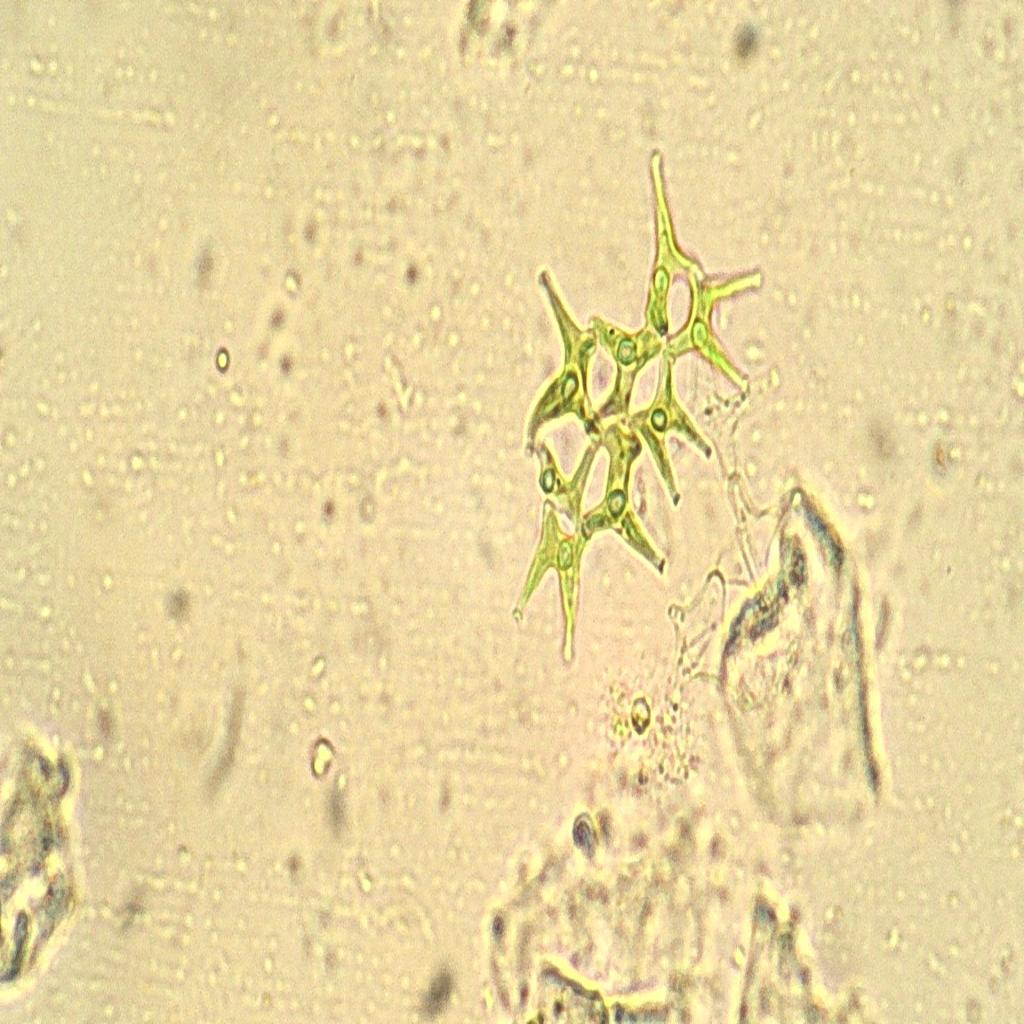Pediastrum_CFI: (492, 122, 768, 676)
